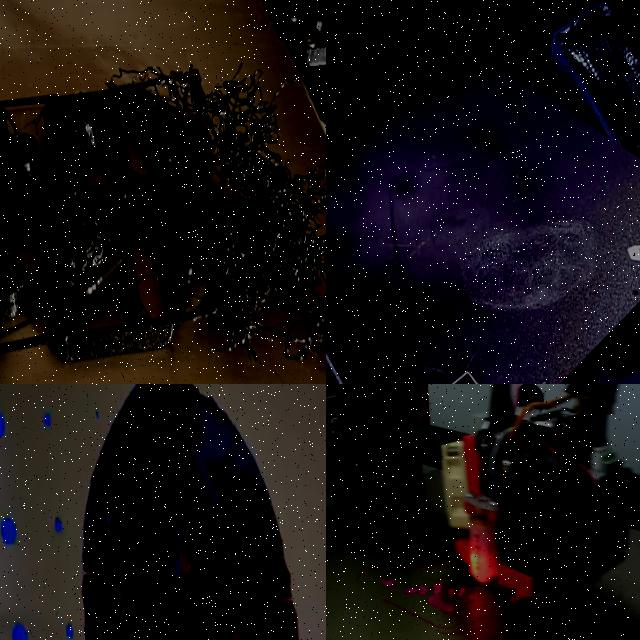spaghetti: (139, 28, 326, 384), (383, 596, 517, 633), (427, 583, 455, 618), (405, 584, 429, 599), (448, 592, 467, 604), (382, 578, 393, 587)
